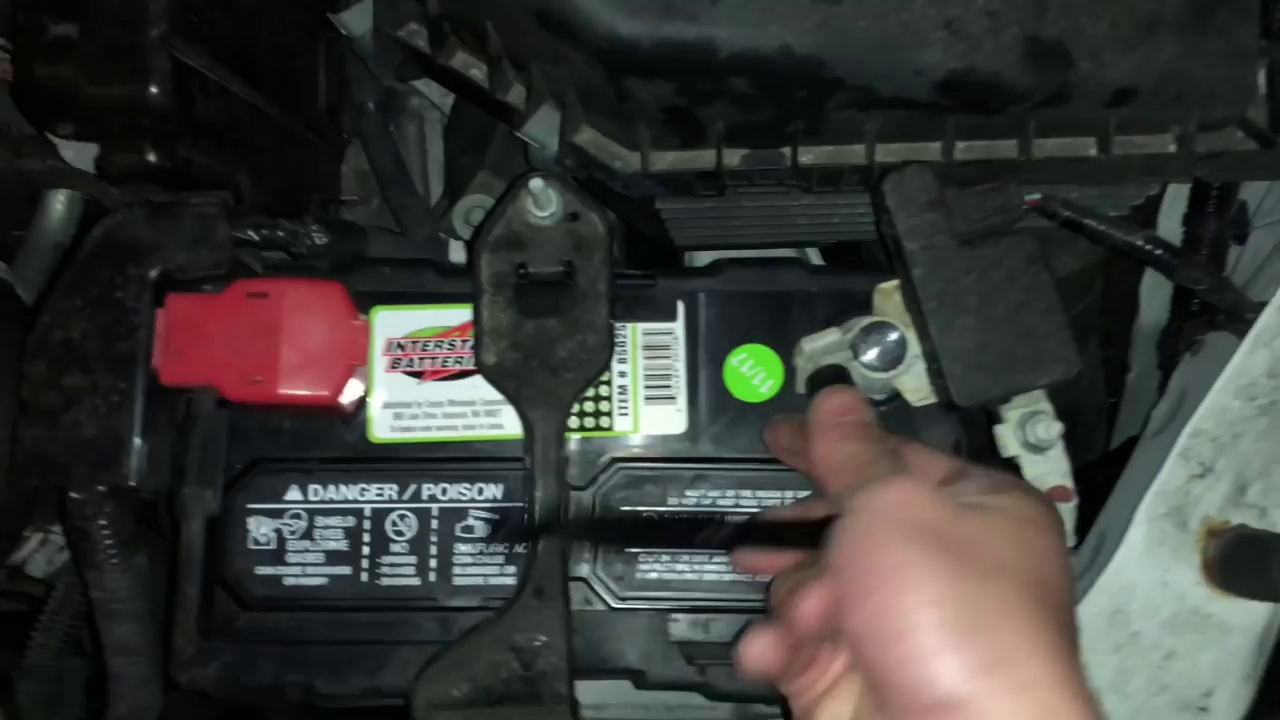battery: (179, 303, 964, 676)
neg_connected: (770, 267, 960, 426)
neg_touched: (777, 277, 1003, 619)
pos_connected: (153, 279, 380, 444)
